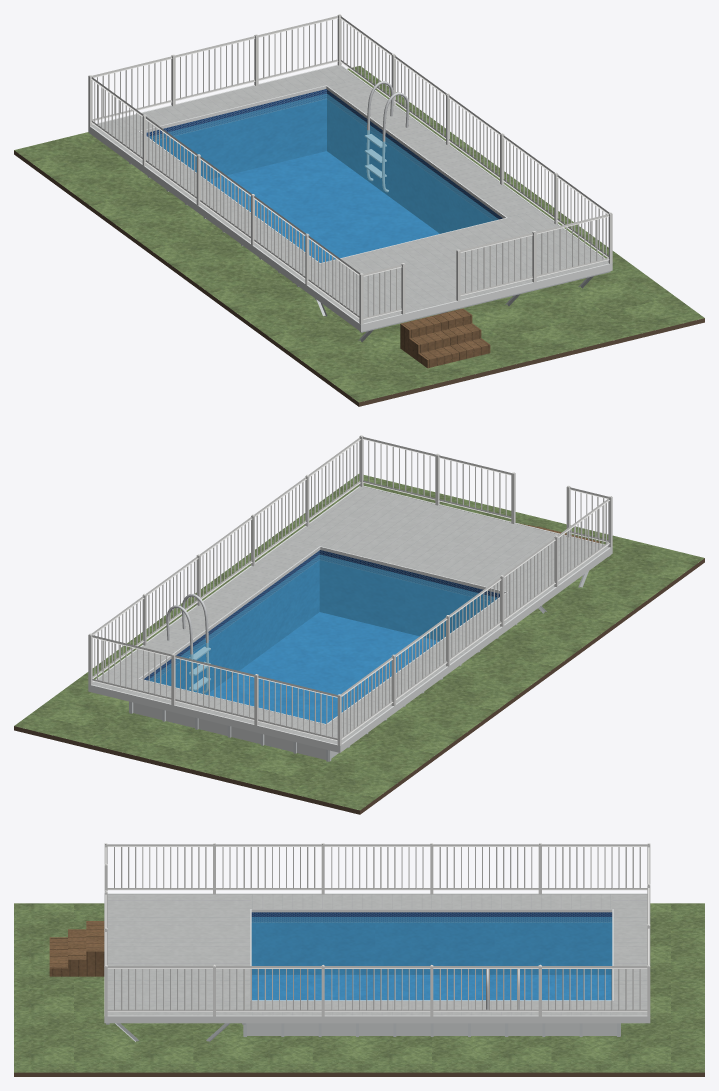
The model's file is kayak-pool-12x20-white-end-rec-fence.73fab0ae8c.glb.
The picture shows the model from 3 angles, top to bottom: view 1: azimuth 30°, elevation 25°; view 2: azimuth 150°, elevation 25°; view 3: azimuth 270°, elevation 25°; orthographic projection.
Parts seen in each view (by area): view 1: ground, deck, water, fence, liner_wall, liner_floor, fascia, steps, soil, steel, stud; view 2: ground, deck, water, fence, liner_wall, liner_floor, fascia, soil, wall, steel; view 3: ground, deck, water, liner_wall, fence, liner_floor, fascia, wall, soil, steps, upright.
Boxes of the visible parts, <box> form: ground: <box>14,66,704,402</box>; deck: <box>92,65,608,323</box>; water: <box>150,93,498,262</box>; fence: <box>88,14,612,324</box>; liner_wall: <box>146,89,502,233</box>; liner_floor: <box>207,151,439,262</box>; fascia: <box>88,64,612,331</box>; steps: <box>400,308,490,368</box>; soil: <box>14,150,704,406</box>; steel: <box>364,81,409,192</box>; stud: <box>292,271,610,341</box>; ground: <box>14,474,704,810</box>; deck: <box>92,486,608,744</box>; water: <box>148,554,496,723</box>; fence: <box>88,435,612,745</box>; liner_wall: <box>144,550,499,694</box>; liner_floor: <box>207,612,438,723</box>; fascia: <box>88,485,612,752</box>; soil: <box>14,558,704,814</box>; wall: <box>133,702,338,759</box>; steel: <box>166,594,210,693</box>; ground: <box>14,903,704,1072</box>; deck: <box>107,894,647,1015</box>; water: <box>251,917,612,1000</box>; liner_wall: <box>251,912,612,974</box>; fence: <box>104,843,650,1016</box>; liner_floor: <box>252,975,611,1000</box>; fascia: <box>104,893,650,1023</box>; wall: <box>247,1023,616,1035</box>; soil: <box>14,1072,704,1076</box>; steps: <box>49,921,104,976</box>; upright: <box>243,1023,620,1036</box>.
Bounding box in the file's own units: 6.71 × 2.15 × 11.57.
Materials: 13 (5 with a texture image).
